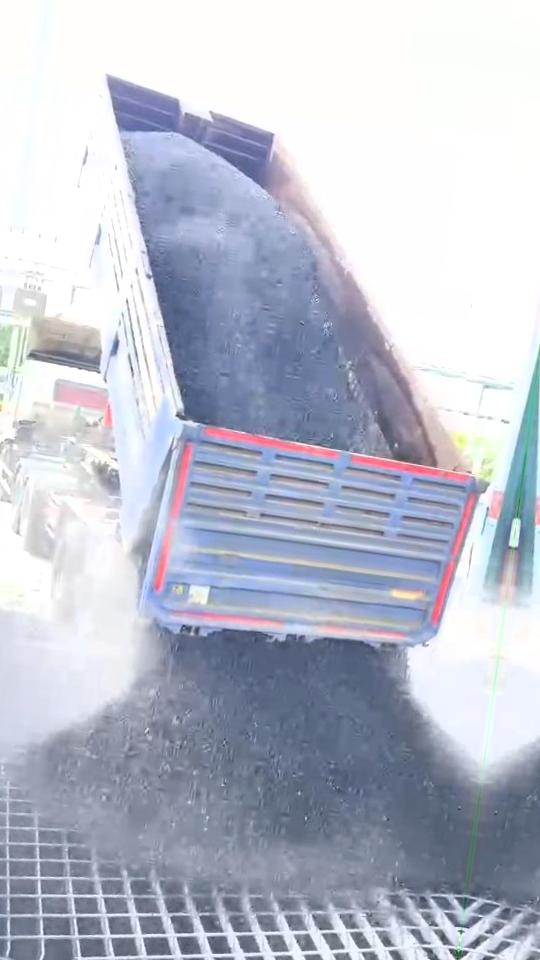gravel: (19, 633, 475, 895), (123, 134, 386, 452)
